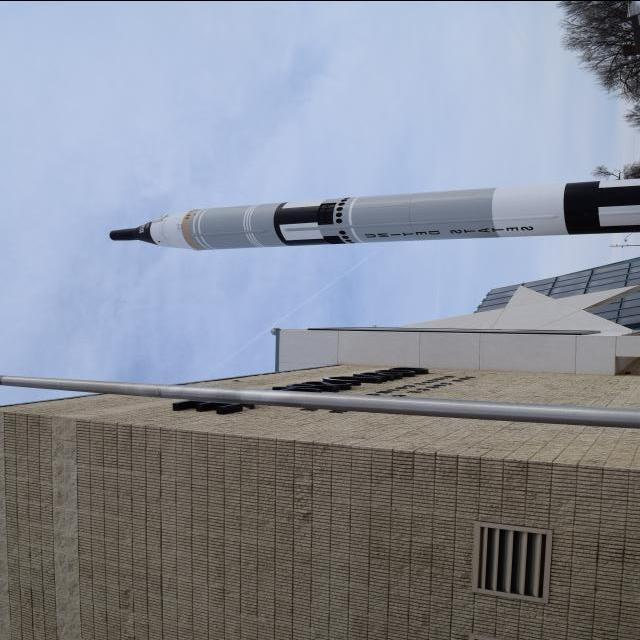missile: (103, 173, 640, 257)
